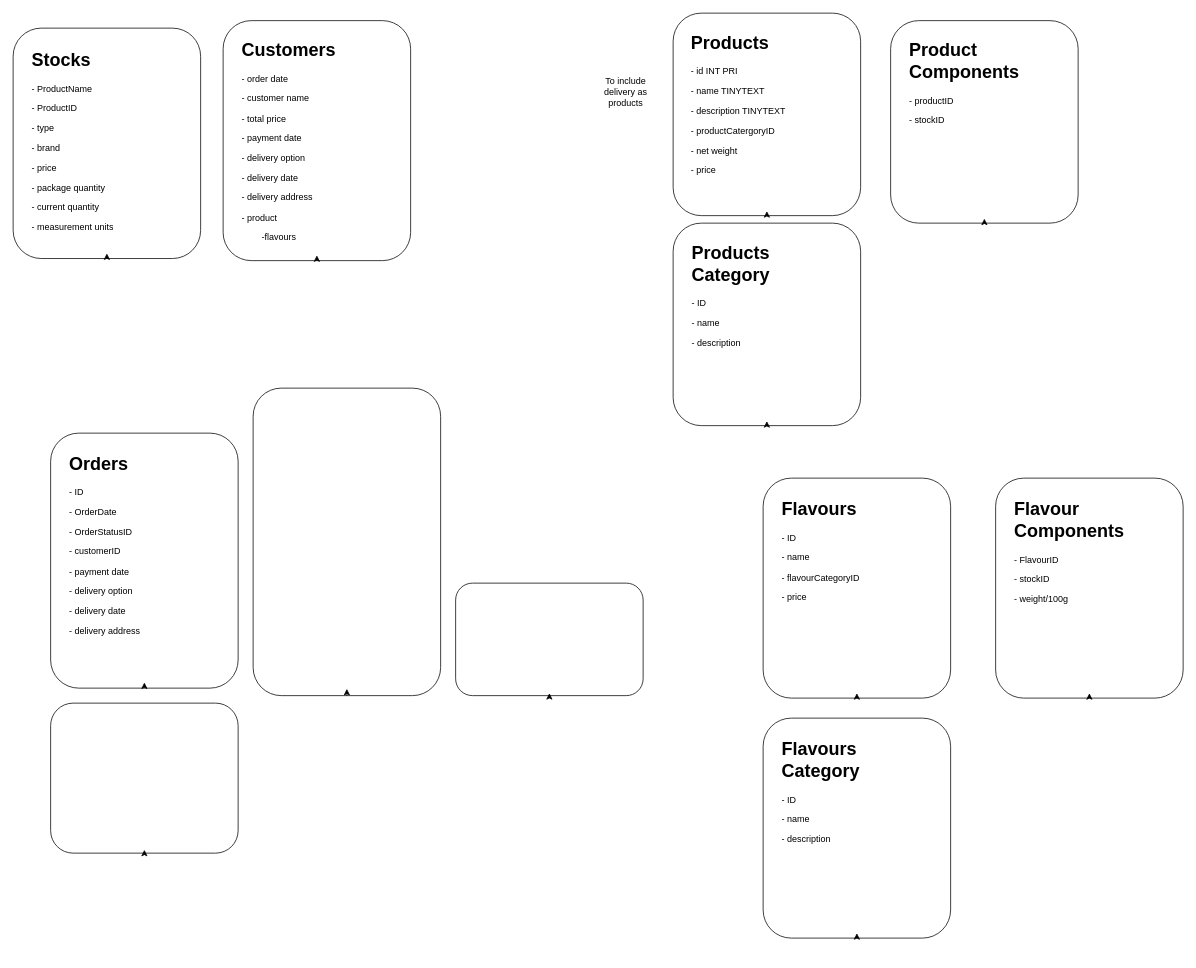
Some shapes in this 1196 by 968 pixel diagram are drawn without their labels. The shapes that lost their labels are listed below. From the top down, each one's centre as x and y in pixels, then its label:
At (346,541): "Order Items - ID - OrderID - ProductID - Quantity - Price - Discount".
At (549,639): "Order Flavours - OrderItemID - FlavourID".
At (144,777): "Order Status - ID - name - description".
